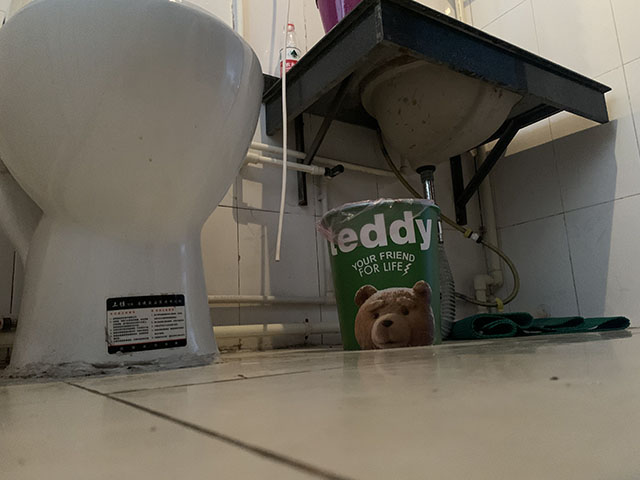closestool: (1, 1, 267, 380)
trashcan: (314, 196, 443, 352)
